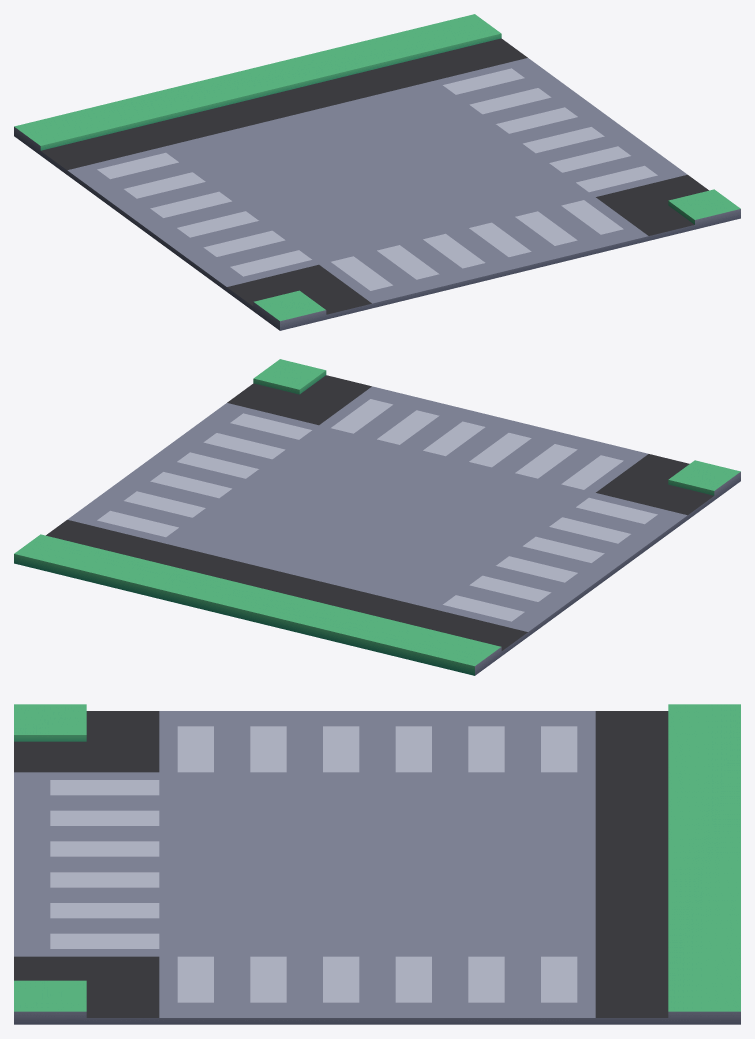
The model's file is road_intersection_path.glb.
3 views of the same model, one above another, from view 1: azimuth 30°, elevation 25°; view 2: azimuth 150°, elevation 25°; view 3: azimuth 270°, elevation 25° (orthographic). The views are drawn at different scales.
Visible parts, largest first — view 1: road-intersection-path; view 2: road-intersection-path; view 3: road-intersection-path.
Boxes of the visible parts, left/top/right/bottom form: road-intersection-path: left=14, top=14, right=740, bottom=330; road-intersection-path: left=14, top=359, right=740, bottom=675; road-intersection-path: left=14, top=704, right=740, bottom=1024.
Size of the model in its own units: 1 by 0.02 by 1.
Materials: 1 (1 with a texture image).
